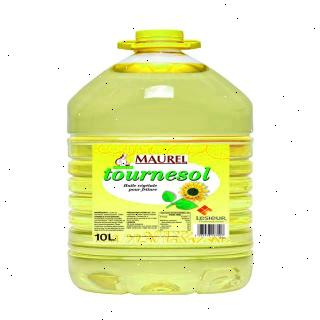Plastic-bottle: (59, 27, 264, 304)
